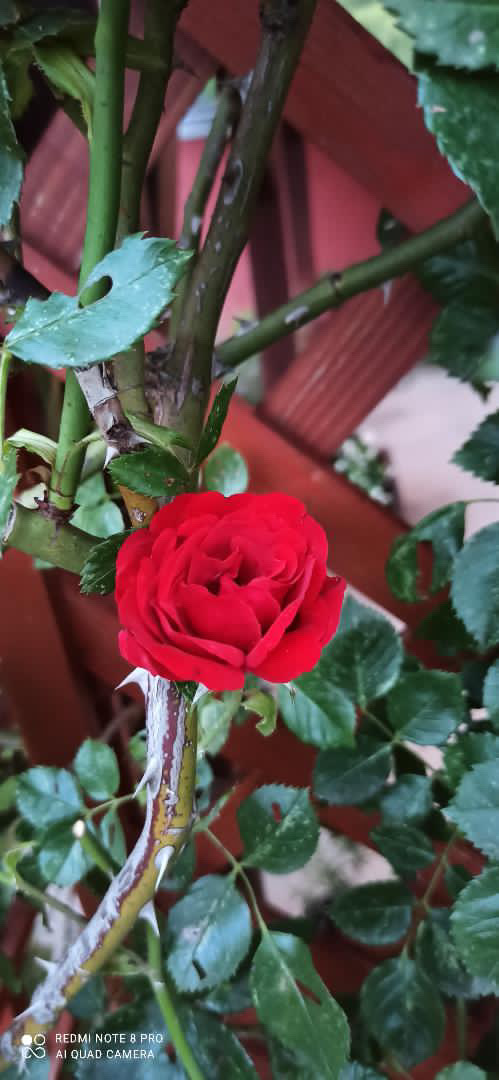rose: (110, 489, 343, 692)
